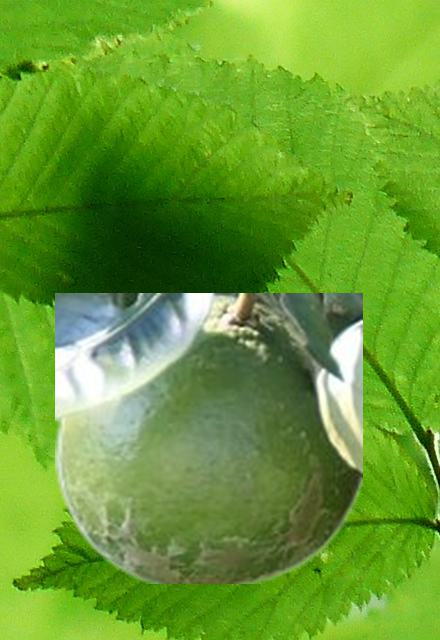dalandan: (55, 293, 361, 582)
